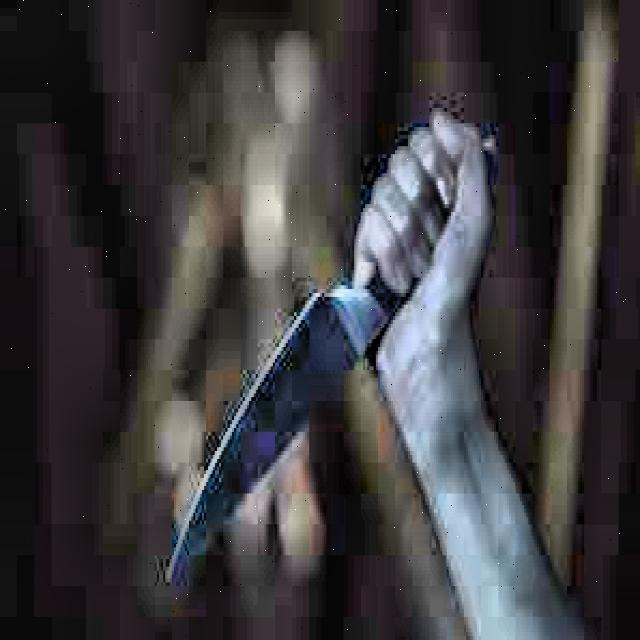knife: (168, 140, 494, 588)
